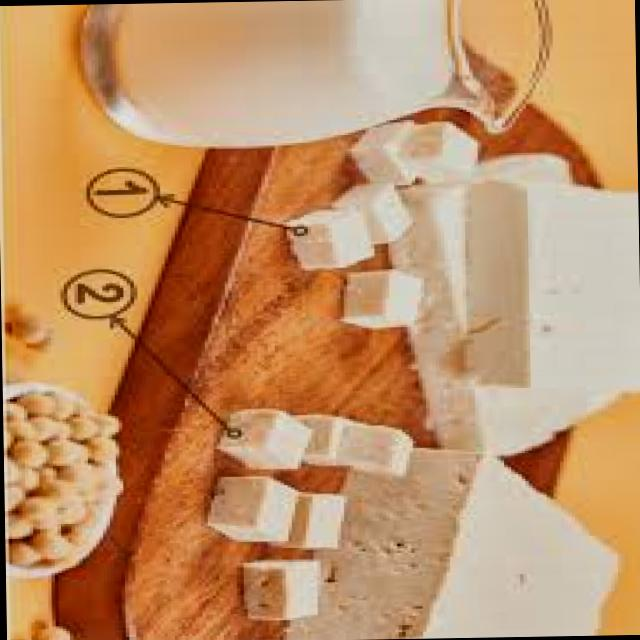tofu: (180, 390, 422, 640), (274, 124, 504, 344)
